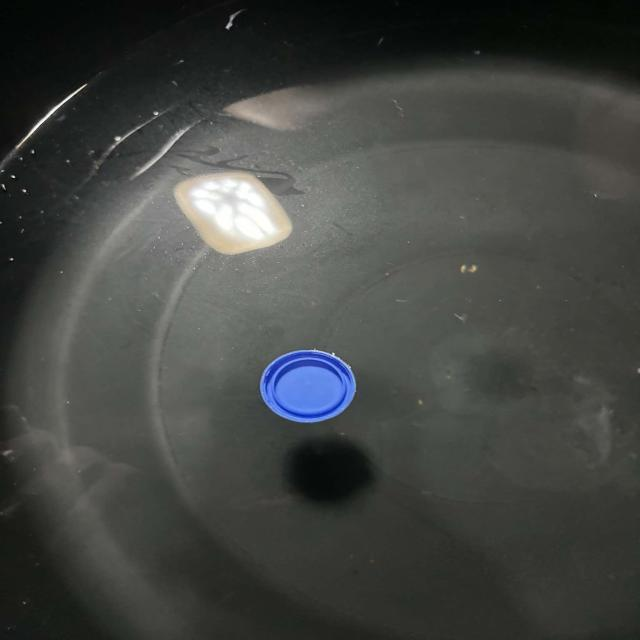Bottle Lid: (260, 350, 356, 423)
